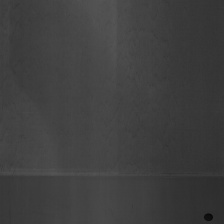punching_hole: (114, 13, 185, 157), (1, 10, 35, 159), (3, 164, 221, 187), (202, 211, 214, 223)
